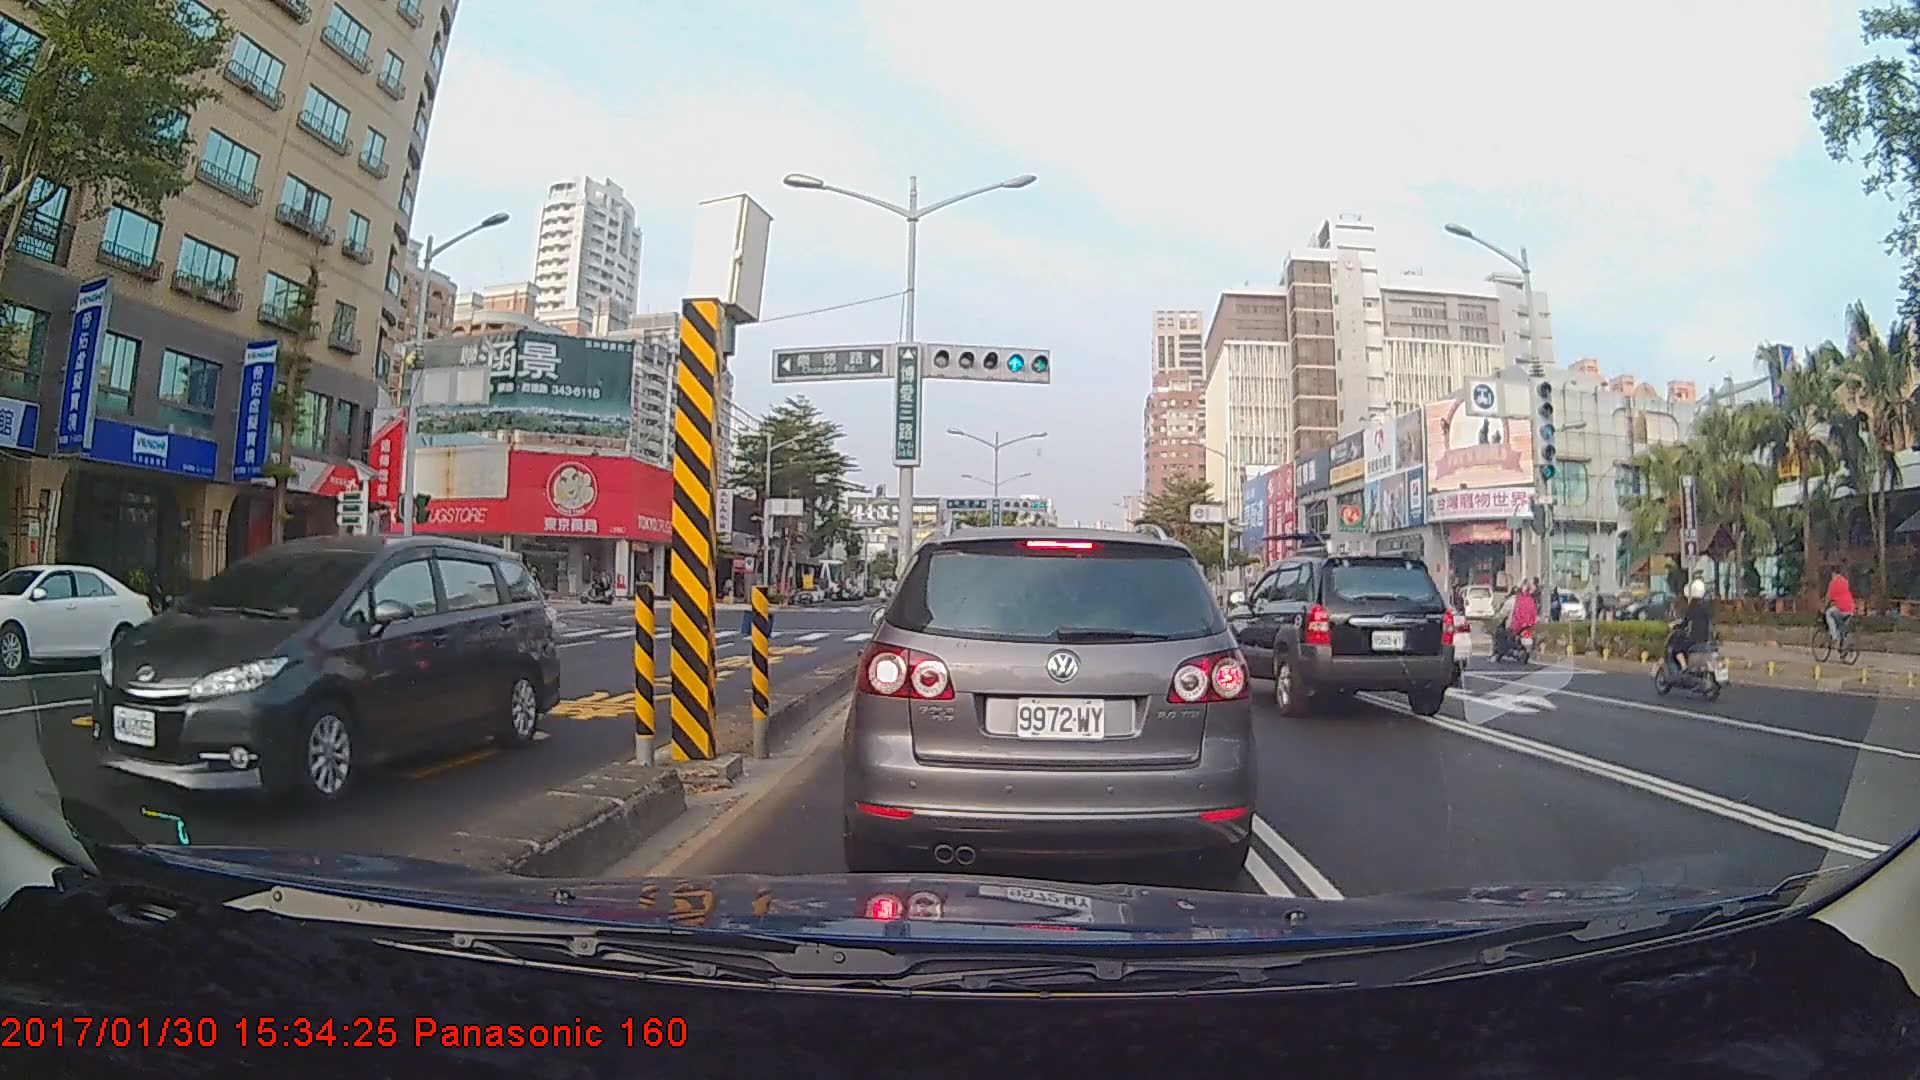pedestrian: (1587, 581, 1608, 640)
rider: (1657, 574, 1727, 708), (1485, 582, 1548, 668), (1805, 568, 1858, 662), (577, 563, 623, 611)
vehicle: (852, 523, 1248, 883), (90, 533, 562, 812), (1207, 547, 1459, 719), (0, 561, 155, 671)
